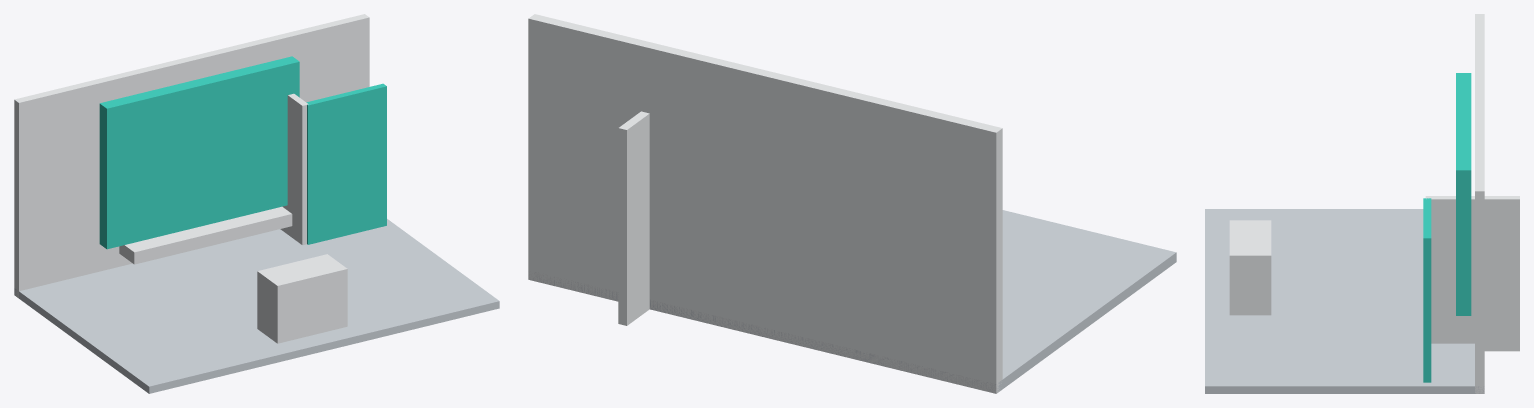
3 views of the same model, side by side, from view 1: azimuth 30°, elevation 25°; view 2: azimuth 150°, elevation 25°; view 3: azimuth 270°, elevation 25° (orthographic). The views are drawn at different scales.
Parts seen in each view (by area): view 1: Exhibition Booth Concept; view 2: Exhibition Booth Concept; view 3: Exhibition Booth Concept.
Boxes of the visible parts, x1,y1,x2,y2 form: Exhibition Booth Concept: (14,14,499,393); Exhibition Booth Concept: (528,14,1176,393); Exhibition Booth Concept: (1205,14,1519,393).
Bounding box in the file's own units: 6 × 3.2 × 4.51.
